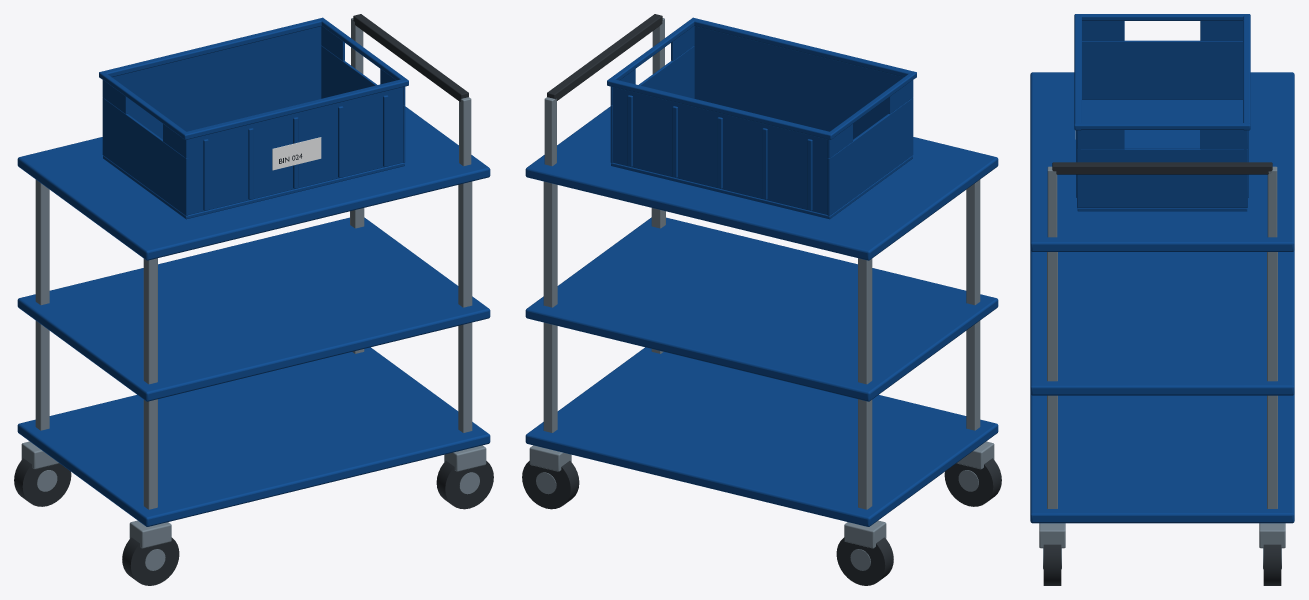
File: supply_trolley.glb
3 views of the same model, side by side, from view 1: azimuth 30°, elevation 25°; view 2: azimuth 150°, elevation 25°; view 3: azimuth 270°, elevation 25° (orthographic).
Visible parts, largest first — view 1: Trolley tray.001, Trolley tray, Trolley tray.002, Tote side.040, Tote side.041, End below handle.040, Trolley upright, Trolley upright.002, Trolley upright.001, Top rim long.040, Top rim long.041, Push handle (+11 smaller); view 2: Trolley tray.001, Trolley tray, Trolley tray.002, Tote side.041, Tote side.040, End below handle.040, Trolley upright.001, Trolley upright.003, Trolley upright, Top rim long.041, Top rim long.040, Push handle (+10 smaller); view 3: Trolley tray.001, Trolley tray, Trolley tray.002, End below handle.040, End below handle.041, Tote bottom.020, Push handle, Trolley upright.002, Trolley upright.003, Handle bridge.041, Handle bridge.040, Handle side.083 (+11 smaller).
Boxes of the visible parts, x1=… form: Trolley tray.001: x1=17, y1=217, x2=490, y2=401; Trolley tray: x1=17, y1=347, x2=490, y2=526; Trolley tray.002: x1=17, y1=106, x2=490, y2=260; Tote side.040: x1=184, y1=87, x2=402, y2=214; Tote side.041: x1=103, y1=26, x2=321, y2=155; End below handle.040: x1=102, y1=97, x2=188, y2=215; Trolley upright: x1=143, y1=258, x2=157, y2=509; Trolley upright.002: x1=458, y1=181, x2=472, y2=432; Trolley upright.001: x1=35, y1=179, x2=49, y2=430; Top rim long.040: x1=181, y1=78, x2=408, y2=139; Top rim long.041: x1=99, y1=18, x2=324, y2=78; Push handle: x1=353, y1=14, x2=468, y2=101; Trolley tray.001: x1=525, y1=217, x2=998, y2=401; Trolley tray: x1=525, y1=347, x2=998, y2=526; Trolley tray.002: x1=525, y1=106, x2=998, y2=260; Tote side.041: x1=613, y1=87, x2=831, y2=214; Tote side.040: x1=694, y1=26, x2=912, y2=155; End below handle.040: x1=827, y1=97, x2=913, y2=215; Trolley upright.001: x1=858, y1=258, x2=872, y2=509; Trolley upright.003: x1=543, y1=181, x2=557, y2=432; Trolley upright: x1=966, y1=179, x2=980, y2=430; Top rim long.041: x1=607, y1=78, x2=834, y2=139; Top rim long.040: x1=691, y1=18, x2=916, y2=78; Push handle: x1=547, y1=14, x2=662, y2=100; Trolley tray.001: x1=1030, y1=250, x2=1294, y2=395; Trolley tray: x1=1030, y1=394, x2=1294, y2=523; Trolley tray.002: x1=1030, y1=72, x2=1294, y2=251; End below handle.040: x1=1082, y1=40, x2=1242, y2=99; End below handle.041: x1=1077, y1=148, x2=1247, y2=207; Tote bottom.020: x1=1077, y1=100, x2=1247, y2=211; Push handle: x1=1052, y1=162, x2=1272, y2=174; Trolley upright.002: x1=1047, y1=252, x2=1057, y2=508; Trolley upright.003: x1=1267, y1=252, x2=1277, y2=508; Handle bridge.041: x1=1074, y1=123, x2=1250, y2=129; Handle bridge.040: x1=1074, y1=14, x2=1250, y2=20; Handle side.083: x1=1200, y1=130, x2=1247, y2=149.
Size of the model in its own units: 0.97 by 1.09 by 0.6.
